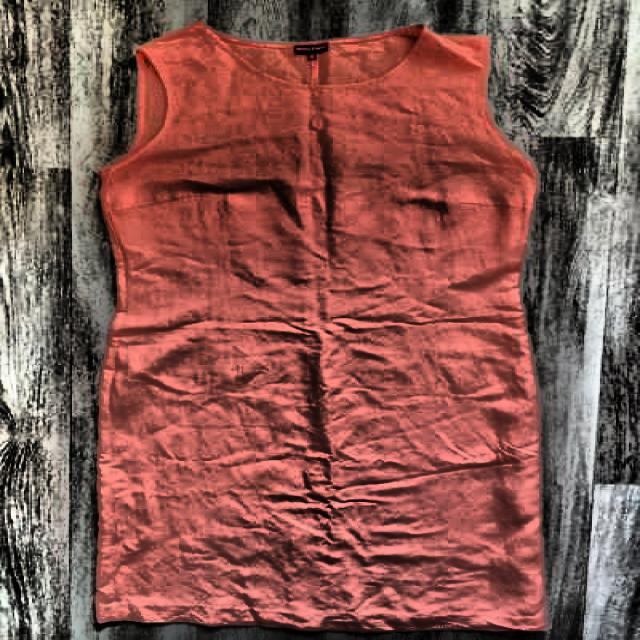clothes: (93, 19, 549, 639)
